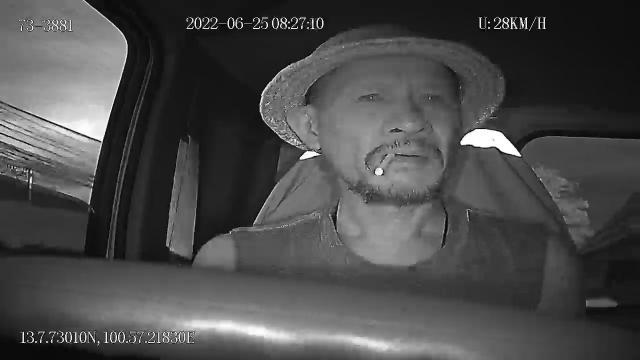SafeDriving: (352, 82, 391, 110), (414, 85, 448, 112)
Smoking: (372, 150, 394, 178)
